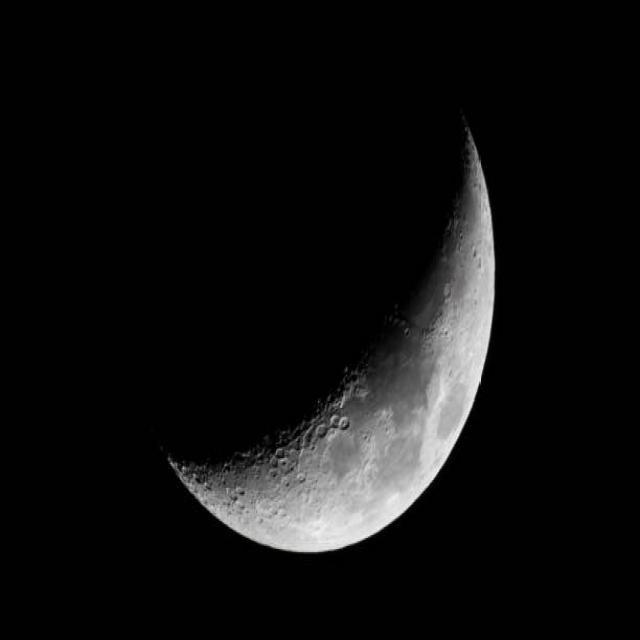moon: (114, 60, 498, 552)
